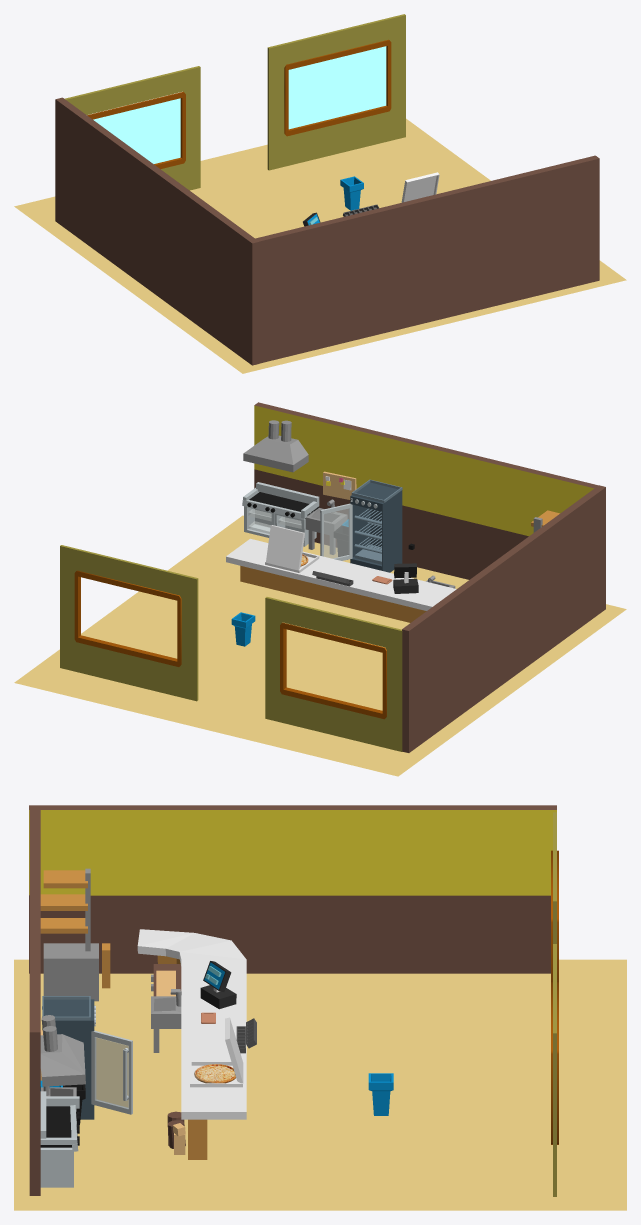
File: restrauntUpdated.glb
The picture shows the model from 3 angles, top to bottom: view 1: azimuth 30°, elevation 25°; view 2: azimuth 150°, elevation 25°; view 3: azimuth 270°, elevation 25°; orthographic projection. The views are drawn at different scales.
Visible parts, largest first — view 1: group1358954356, group1358954356.001, Plane, wall-window-wide-square.001, (%ignore).001, wall-window-wide-square.002, (%ignore).002, wall-window-wide-square.003, wall-window-wide-square.004, lid, group897139678; view 2: Plane, group1358954356.001, group1358954356, wall-window-wide-square.001, wall-window-wide-square.002, group804660210, Node, group151101300, wall-window-wide-square.003, wall-window-wide-square.004, Node.001, group208636820 (+7 smaller); view 3: Plane, group1358954356.001, group804660210, group1358954356, Node.001, group1593933401, Node, group208636820, group2081224890, wall-window-wide-square.001, group151101300, group89637921 (+11 smaller).
Part boxes in pixels (left/top/right/bottom): group1358954356: left=255, top=155, right=599, bottom=363; group1358954356.001: left=55, top=97, right=259, bottom=365; Plane: left=14, top=118, right=626, bottom=373; wall-window-wide-square.001: left=267, top=14, right=405, bottom=170; (%ignore).001: left=288, top=46, right=386, bottom=129; wall-window-wide-square.002: left=64, top=66, right=200, bottom=190; (%ignore).002: left=93, top=98, right=180, bottom=163; wall-window-wide-square.003: left=284, top=39, right=391, bottom=136; wall-window-wide-square.004: left=87, top=91, right=185, bottom=169; lid: left=401, top=172, right=439, bottom=202; group897139678: left=340, top=176, right=363, bottom=210; Plane: left=14, top=515, right=626, bottom=776; group1358954356.001: left=402, top=485, right=605, bottom=752; group1358954356: left=254, top=402, right=598, bottom=579; wall-window-wide-square.001: left=60, top=545, right=198, bottom=701; wall-window-wide-square.002: left=265, top=597, right=402, bottom=751; group804660210: left=226, top=538, right=456, bottom=610; Node: left=350, top=479, right=402, bottom=572; group151101300: left=240, top=565, right=426, bottom=622; wall-window-wide-square.003: left=74, top=570, right=181, bottom=666; wall-window-wide-square.004: left=280, top=622, right=386, bottom=719; Node.001: left=320, top=503, right=352, bottom=560; group208636820: left=243, top=435, right=308, bottom=472; Plane: left=14, top=959, right=626, bottom=1210; group1358954356.001: left=29, top=805, right=556, bottom=973; group804660210: left=137, top=929, right=246, bottom=1119; group1358954356: left=29, top=809, right=40, bottom=1195; Node.001: left=91, top=1030, right=132, bottom=1114; group1593933401: left=43, top=943, right=98, bottom=1001; Node: left=42, top=996, right=95, bottom=1119; group208636820: left=40, top=1034, right=85, bottom=1086; group2081224890: left=40, top=1147, right=73, bottom=1187; wall-window-wide-square.001: left=553, top=944, right=556, bottom=1196; group151101300: left=157, top=955, right=207, bottom=1159; group89637921: left=151, top=996, right=181, bottom=1028.
Size of the model in its own units: 26 by 8 by 26.81.
Materials: 26 (2 with a texture image).
